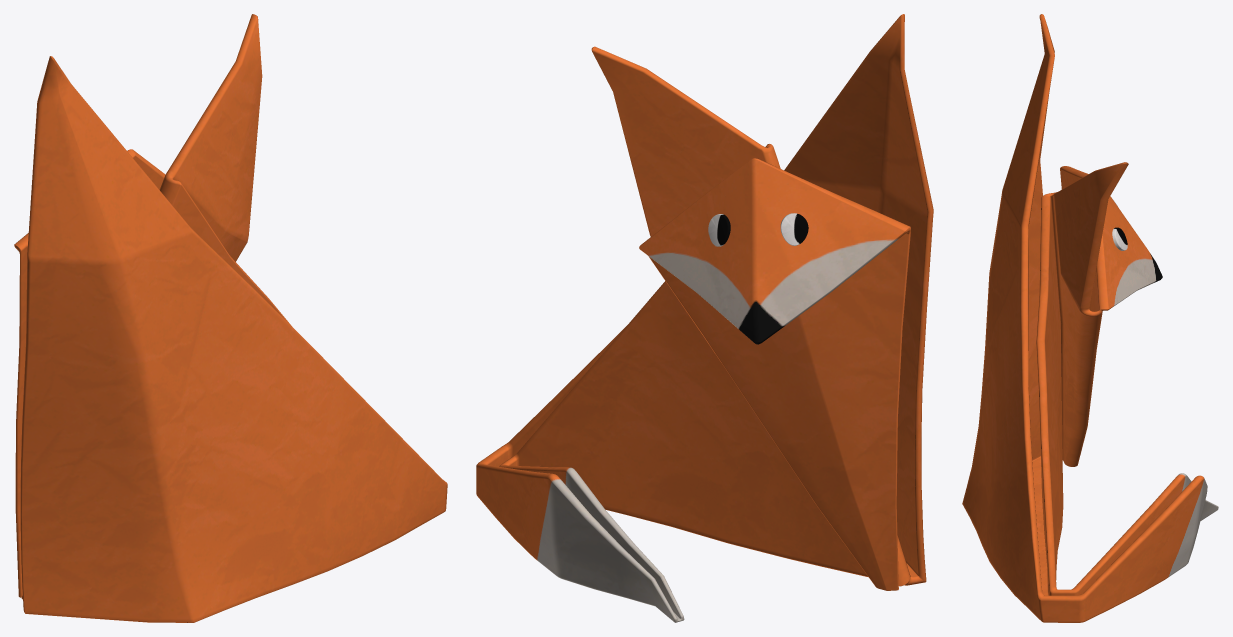
Rendered from fox-model.fbx.
3 renders of one model, left to right at view 1: azimuth 30°, elevation 25°; view 2: azimuth 150°, elevation 25°; view 3: azimuth 270°, elevation 25°, orthographic. The views are drawn at different scales.
Visible parts, largest first — view 1: root.002; view 2: root.002; view 3: root.002.
Part boxes in pixels (left/top/right/bottom): root.002: left=14, top=14, right=447, bottom=622; root.002: left=476, top=14, right=933, bottom=622; root.002: left=962, top=14, right=1218, bottom=622.
Size of the model in its own units: 44.34 by 55.48 by 28.48.
1 material, 1 textured.
